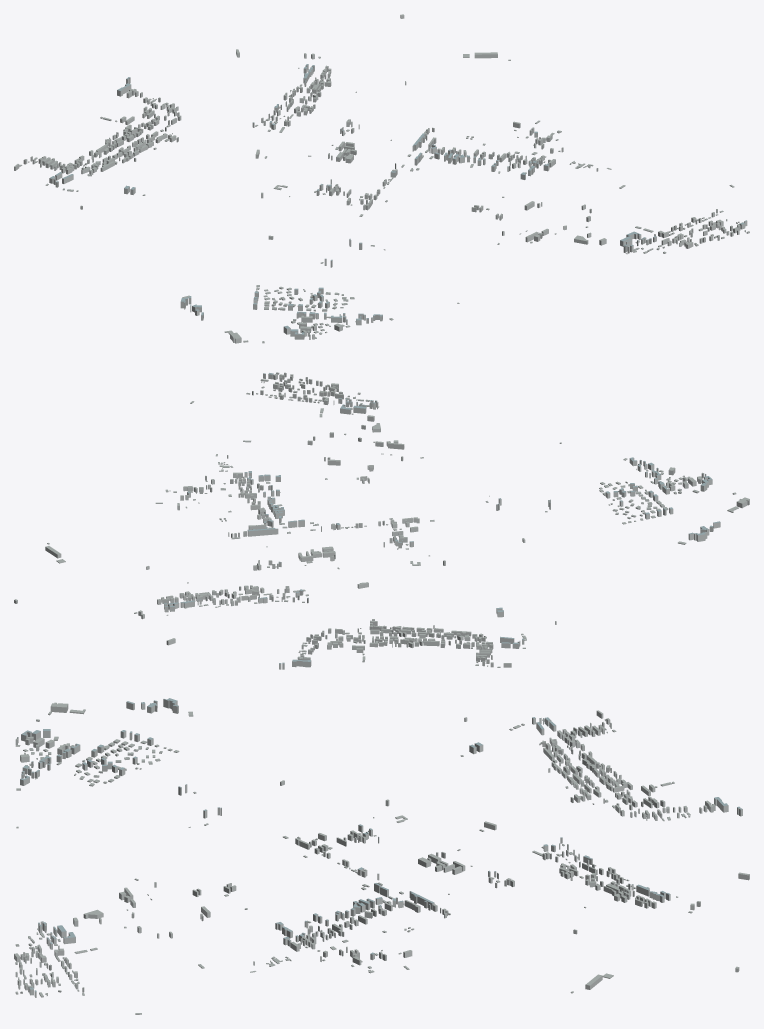
3 views of the same model, one above another, from view 1: azimuth 30°, elevation 25°; view 2: azimuth 150°, elevation 25°; view 3: azimuth 270°, elevation 25° (orthographic). The views are drawn at different scales.
Parts seen in each view (by area): view 1: 上海全域建筑分块 · mapped building neighborhood; view 2: 上海全域建筑分块 · mapped building neighborhood; view 3: 上海全域建筑分块 · mapped building neighborhood.
Part boxes in pixels (x1,y1,x2,y2): 上海全域建筑分块 · mapped building neighborhood: (14, 14, 749, 343); 上海全域建筑分块 · mapped building neighborhood: (14, 372, 749, 669); 上海全域建筑分块 · mapped building neighborhood: (14, 698, 749, 1014).
Bounding box in the file's own units: 2106 × 26.81 × 2120.
